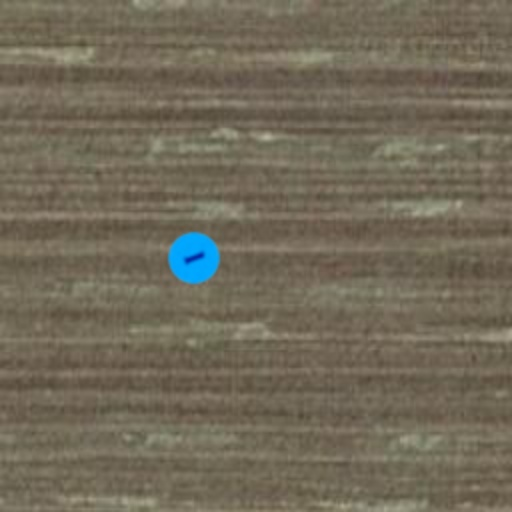circle: (160, 224, 228, 292)
